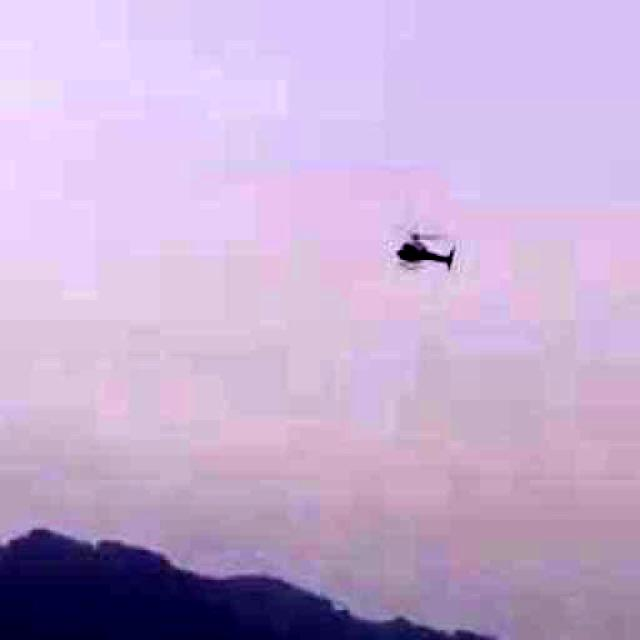drone: (374, 196, 472, 290)
